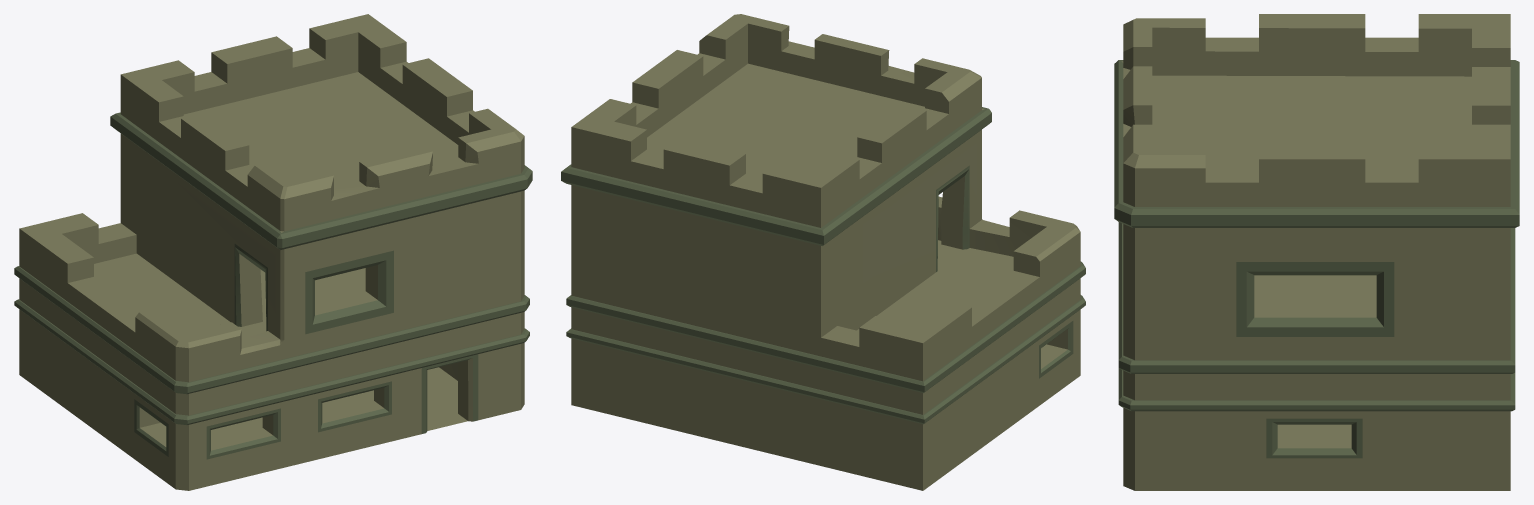
The model's file is home2big.fbx.
The picture shows the model from 3 angles, left to right: view 1: azimuth 30°, elevation 25°; view 2: azimuth 150°, elevation 25°; view 3: azimuth 270°, elevation 25°; orthographic projection. The views are drawn at different scales.
Visible parts, largest first — view 1: home2big; view 2: home2big; view 3: home2big.
Part boxes in pixels (x1=…): home2big: x1=14, y1=14, x2=532, y2=490; home2big: x1=561, y1=14, x2=1085, y2=490; home2big: x1=1114, y1=14, x2=1519, y2=490.
Size of the model in its own units: 14.79 by 10.87 by 12.04.
